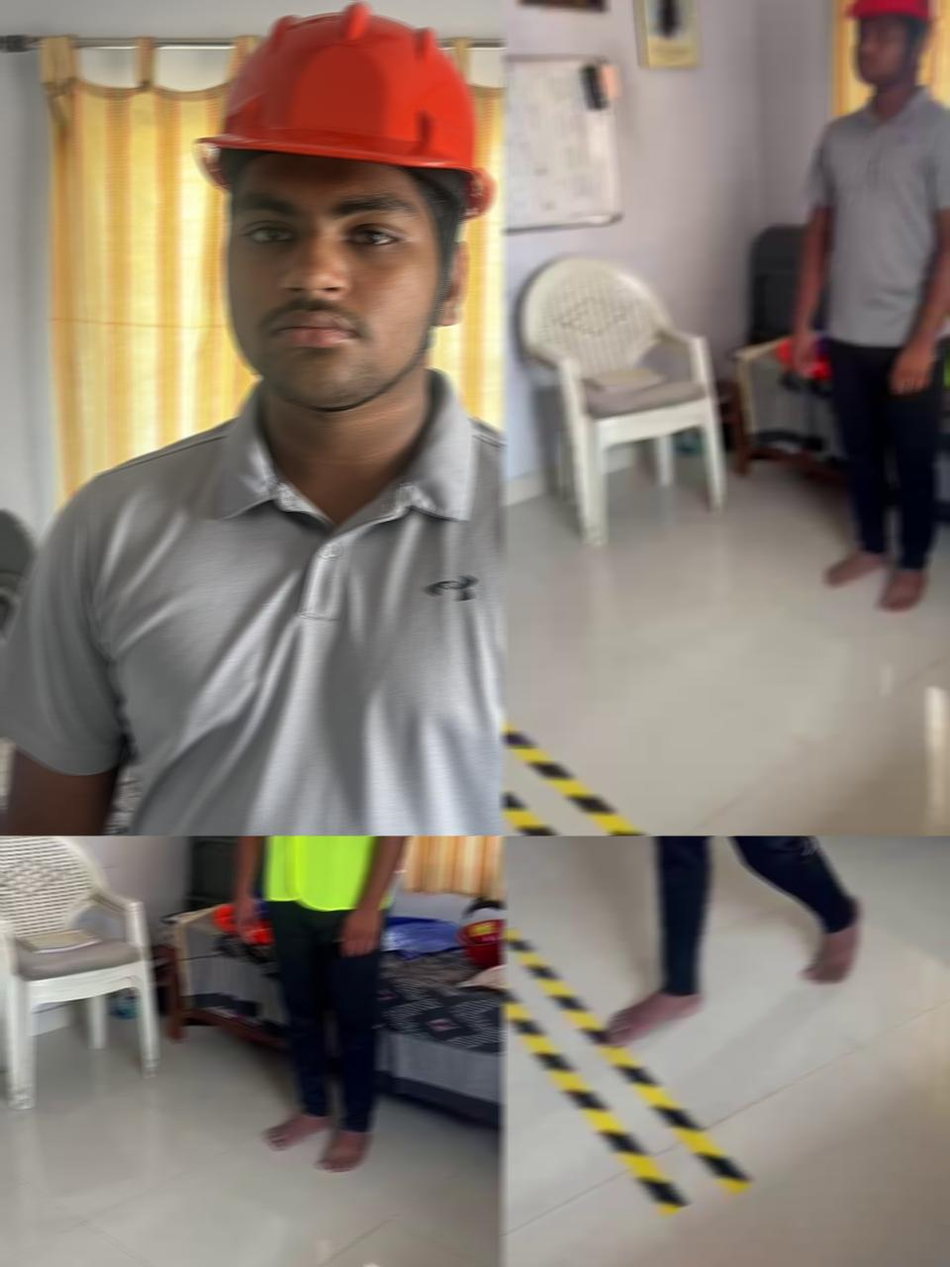BorderLine: (501, 925, 754, 1216), (501, 701, 717, 835)
Helmet: (192, 3, 493, 220), (845, 0, 934, 23)
No_Vest: (0, 370, 504, 835), (803, 85, 950, 348)
Person: (0, 1, 504, 835), (788, 0, 950, 613), (228, 835, 427, 1174), (598, 835, 860, 1043)
Vest: (246, 835, 414, 916)
